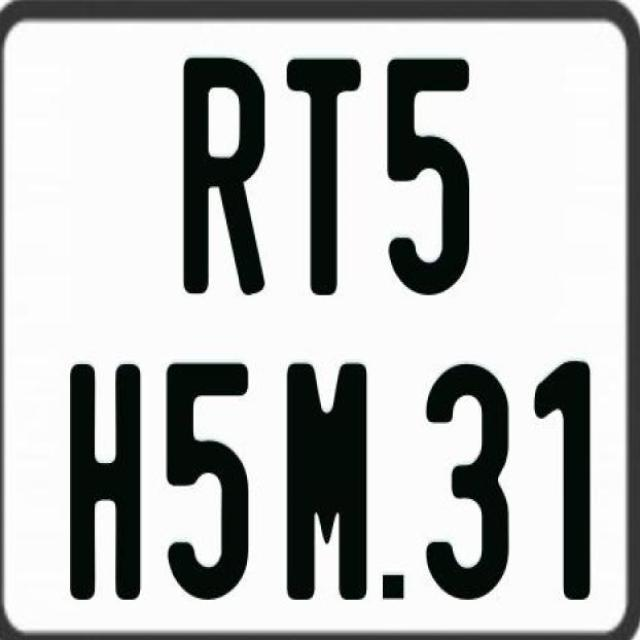license-plate: (0, 11, 640, 606)
